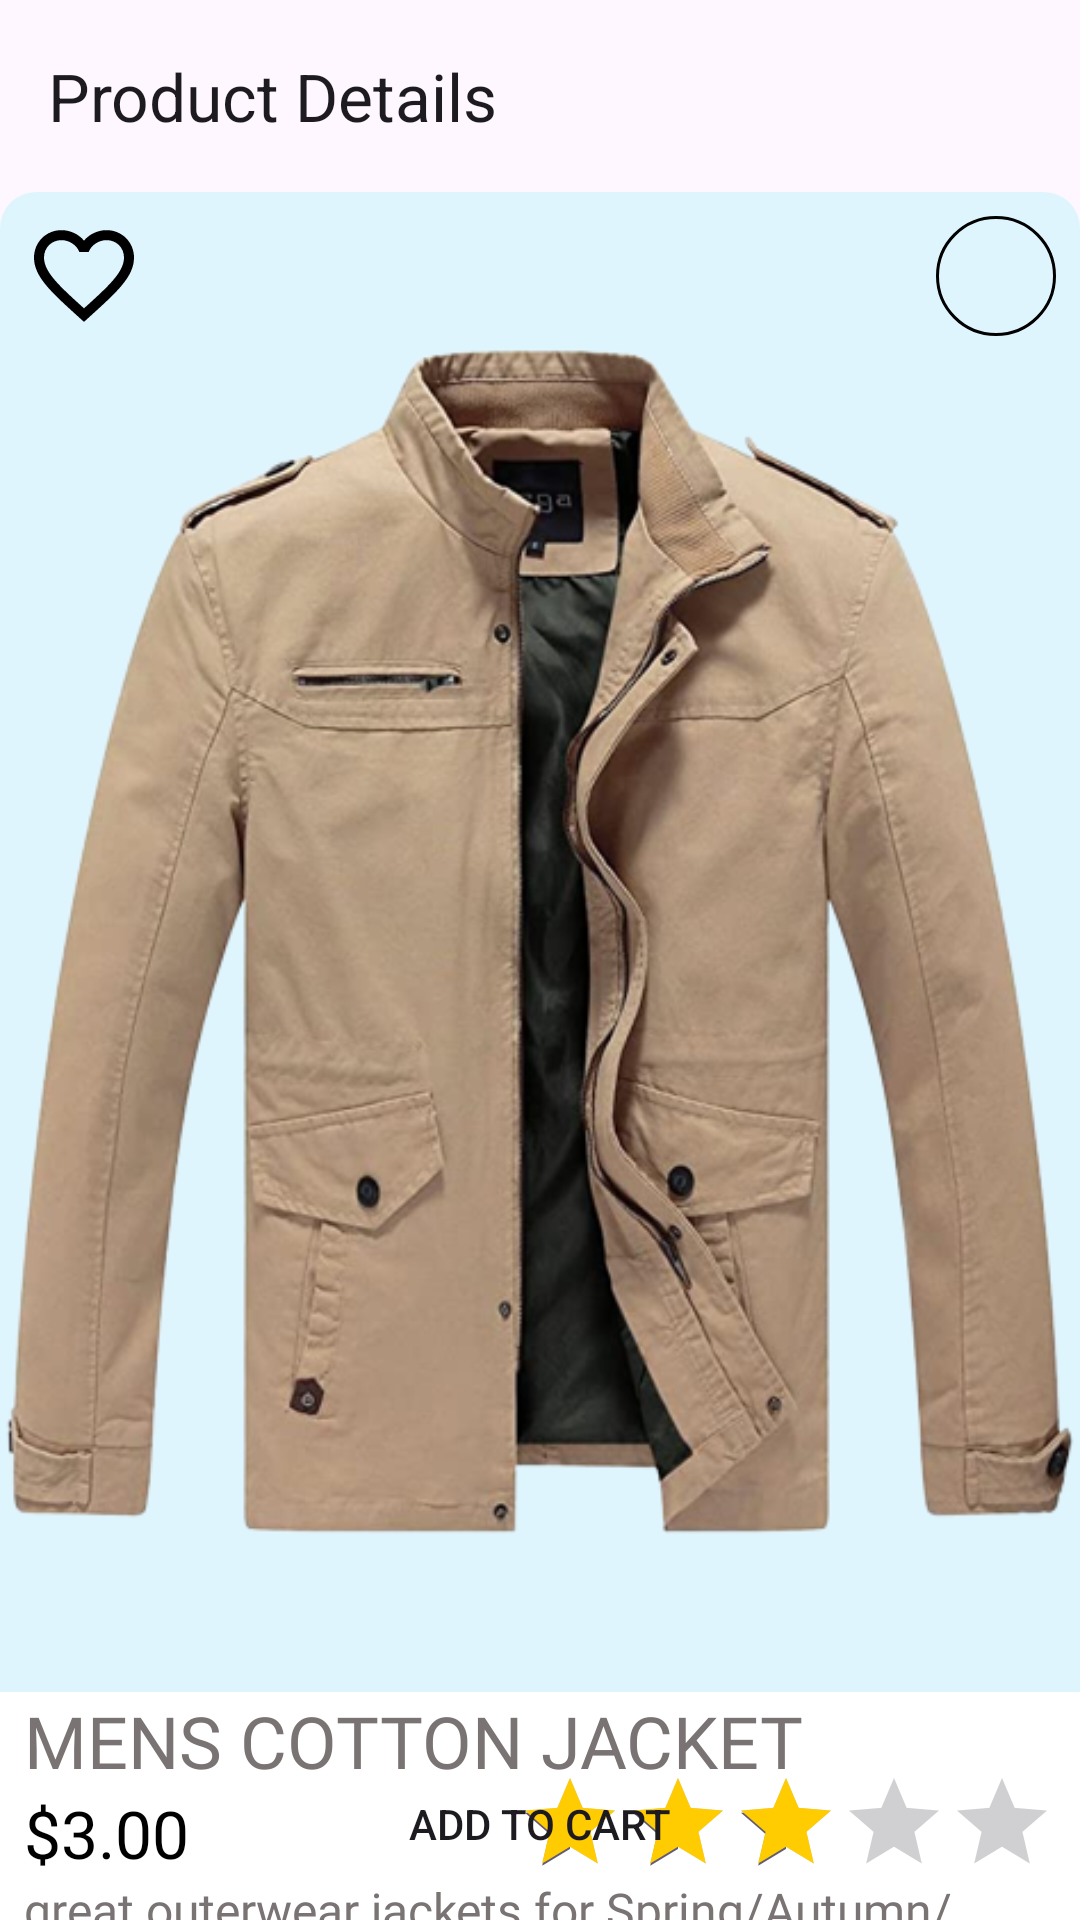

Where icons sit on this 1080w x 1920h app screen, as (x1, y1, x2, y2):
favourite icon: (34, 230, 134, 322)
